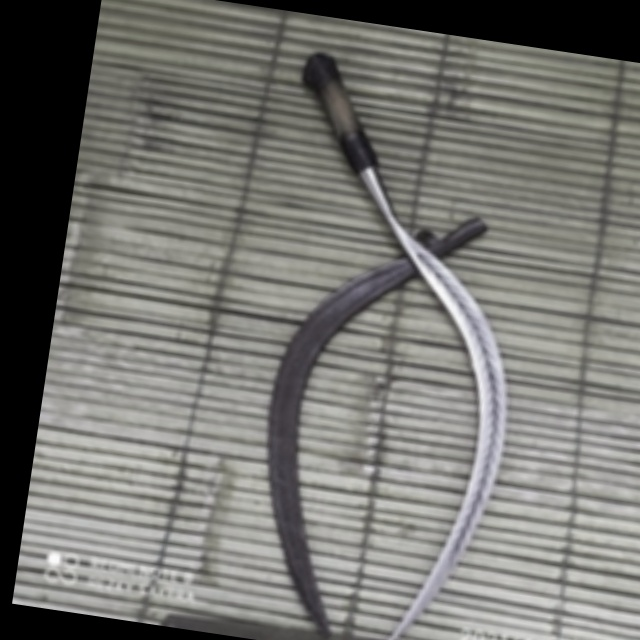Sharp-Object: (223, 40, 565, 640)
